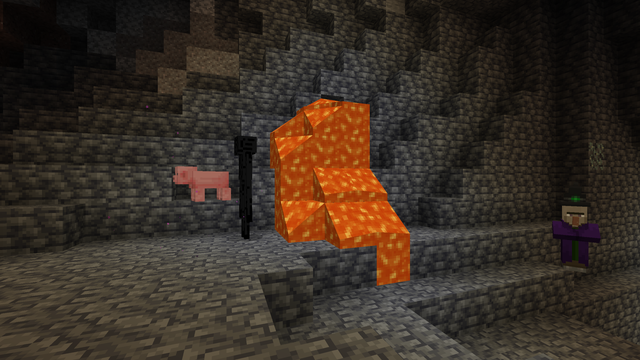cochons: (190, 170, 224, 201)
endermens: (233, 131, 256, 240)
sorcieres: (555, 201, 593, 274)
